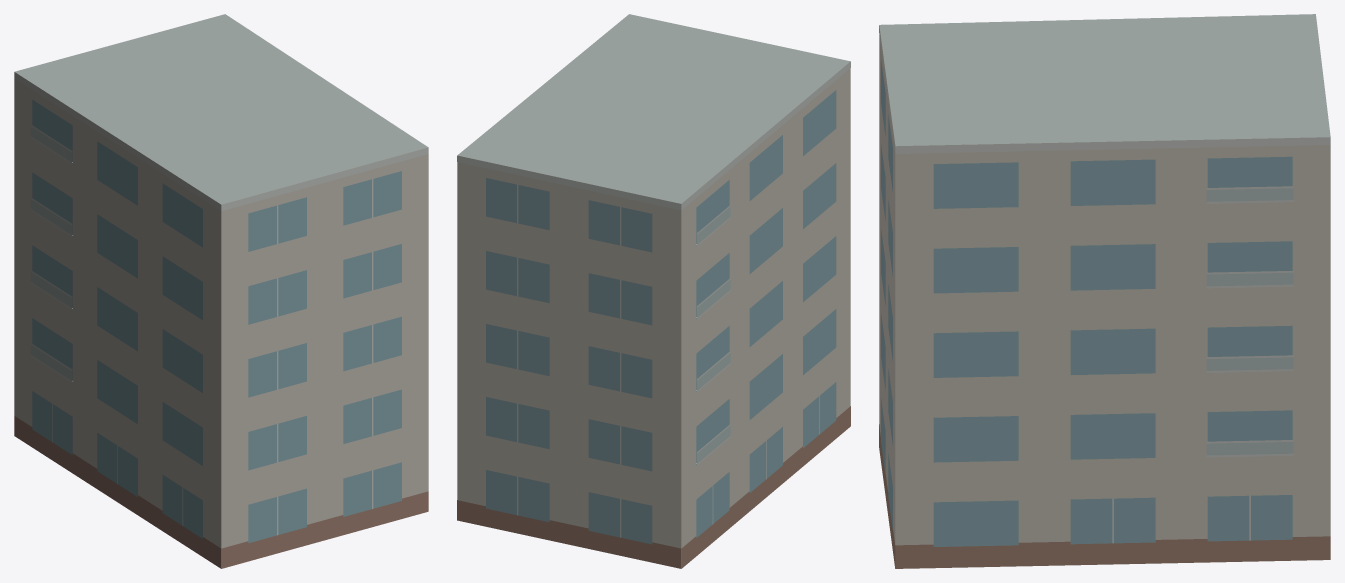
Rendered from survey-upis-32883382.glb.
3 renders of one model, left to right at view 1: azimuth 30°, elevation 25°; view 2: azimuth 150°, elevation 25°; view 3: azimuth 270°, elevation 25°, orthographic. The views are drawn at different scales.
Visible parts, largest first — view 1: survey-upis-32883382.tmp; view 2: survey-upis-32883382.tmp; view 3: survey-upis-32883382.tmp.
Part boxes in pixels (x1,y1,x2,y2): survey-upis-32883382.tmp: (14, 14, 428, 568); survey-upis-32883382.tmp: (457, 14, 850, 568); survey-upis-32883382.tmp: (879, 14, 1330, 568).
Size of the model in its own units: 9.06 by 13.5 by 13.08.
